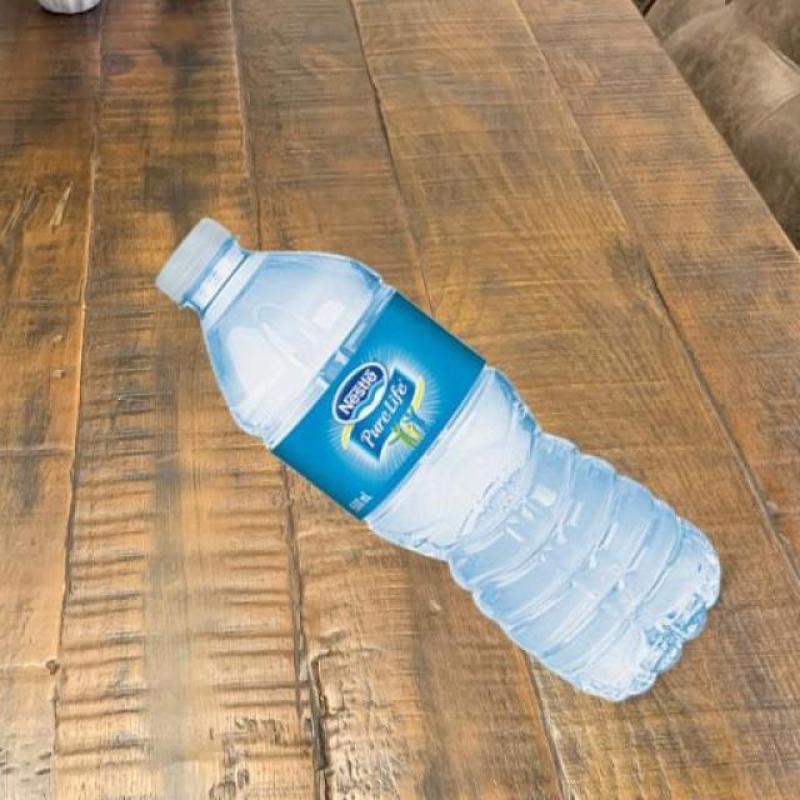botella: (153, 213, 723, 701)
